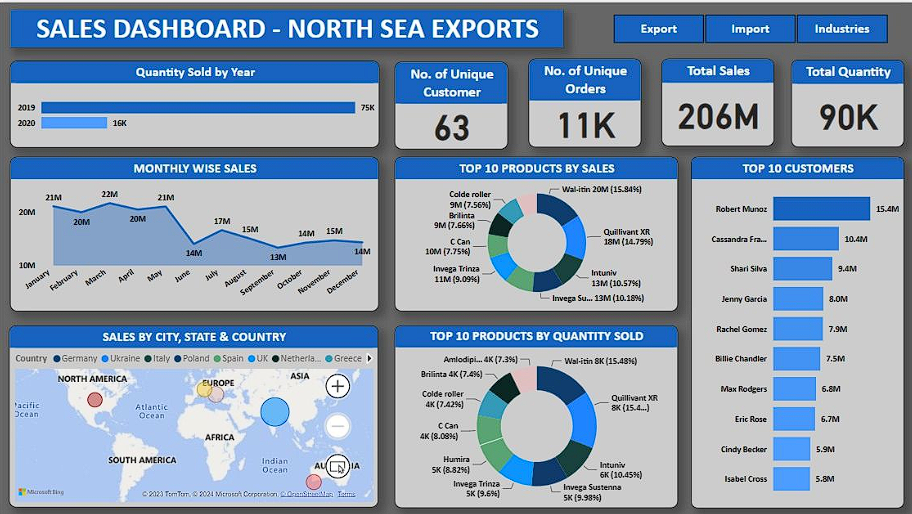

The page's visual inventory and layout, read from the dashboard file:
{"tool":"powerbi","page":{"name":"Page 1","canvas":[1280,720],"ordinal":0},"visuals":[{"type":"clusteredBarChart","title":"Quantity Sold by Year","fields":{"Category":["Sales Details.OrderDate.Variation.Date Hierarchy.Year","Sales Details.OrderDate.Variation.Date Hierarchy.Quarter","Sales Details.OrderDate.Variation.Date Hierarchy.Month","Sales Details.OrderDate.Variation.Date Hierarchy.Day"],"Y":["Sales Details.Quantity"]},"box":[15,81.2,516.2,121.2],"z":0},{"type":"areaChart","title":"MONTHLY WISE SALES","fields":{"Category":["Sales Details.OrderDate.Variation.Date Hierarchy.Month"],"Y":["Sales Details.Sales"]},"box":[16.2,216.2,515,216.2],"z":1000},{"type":"card","title":"No. of Unique Orders","fields":{"Values":["Sales Details.No. of Unique Orders"]},"box":[740,78.8,157.5,123.8],"z":2000},{"type":"card","title":"No. of Unique Customer","fields":{"Values":["Customer Details.No.of Unique Customers"]},"box":[552.5,82.5,158.8,122.5],"z":3000},{"type":"card","title":"Total Sales","fields":{"Values":["Sales Details.Sales"]},"box":[926.2,78.8,157.5,122.5],"z":4000},{"type":"map","title":"SALES BY CITY, STATE & COUNTRY","fields":{"Size":["Sales Details.Sales"],"Category":["Region.Country"],"Series":["Region.Country"]},"box":[14.5,451.1,516.2,254.5],"z":5000},{"type":"clusteredBarChart","title":"TOP 10 CUSTOMERS","fields":{"Category":["Customer Details.Customer Names"],"Y":["Sales Details.Sales"]},"box":[967.5,215,297.5,491.2],"z":6000},{"type":"donutChart","title":"TOP 10 PRODUCTS BY SALES","fields":{"Y":["Sales Details.Sales"],"Category":["Product Details.Product Name"]},"box":[552.5,216.2,396.2,216.2],"z":7000},{"type":"donutChart","title":"TOP 10 PRODUCTS BY QUANTITY SOLD","fields":{"Category":["Product Details.Product Name"],"Y":["Sales Details.Quantity"]},"box":[552.5,451.2,396.2,255],"z":8000},{"type":"slicer","title":"Channel","fields":{"Values":["Sales Details.Channel"]},"box":[832.5,10,432.5,53.8],"z":9000},{"type":"textbox","title":"SALES DASHBOARD - NORTH SEA EXPORTS","box":[15,10,773.8,53.8],"z":10000},{"type":"card","title":"Total Quantity","fields":{"Values":["Sales Details.Quantity"]},"box":[1107.5,80,157.5,122.5],"z":11000}]}

Visuals, with their boxes in screenshot pixels (x1, y1, x2, y2), scaled from the page's 1280x720 canvas onto the 912x514 screenshot:
"Quantity Sold by Year" clusteredBarChart: [left=11, top=58, right=378, bottom=144]
"MONTHLY WISE SALES" areaChart: [left=12, top=154, right=378, bottom=309]
"No. of Unique Orders" card: [left=527, top=56, right=639, bottom=145]
"No. of Unique Customer" card: [left=394, top=59, right=507, bottom=146]
"Total Sales" card: [left=660, top=56, right=772, bottom=144]
"SALES BY CITY, STATE & COUNTRY" map: [left=10, top=322, right=378, bottom=504]
"TOP 10 CUSTOMERS" clusteredBarChart: [left=689, top=153, right=901, bottom=504]
"TOP 10 PRODUCTS BY SALES" donutChart: [left=394, top=154, right=676, bottom=309]
"TOP 10 PRODUCTS BY QUANTITY SOLD" donutChart: [left=394, top=322, right=676, bottom=504]
"Channel" slicer: [left=593, top=7, right=901, bottom=46]
"SALES DASHBOARD - NORTH SEA EXPORTS" textbox: [left=11, top=7, right=562, bottom=46]
"Total Quantity" card: [left=789, top=57, right=901, bottom=145]
